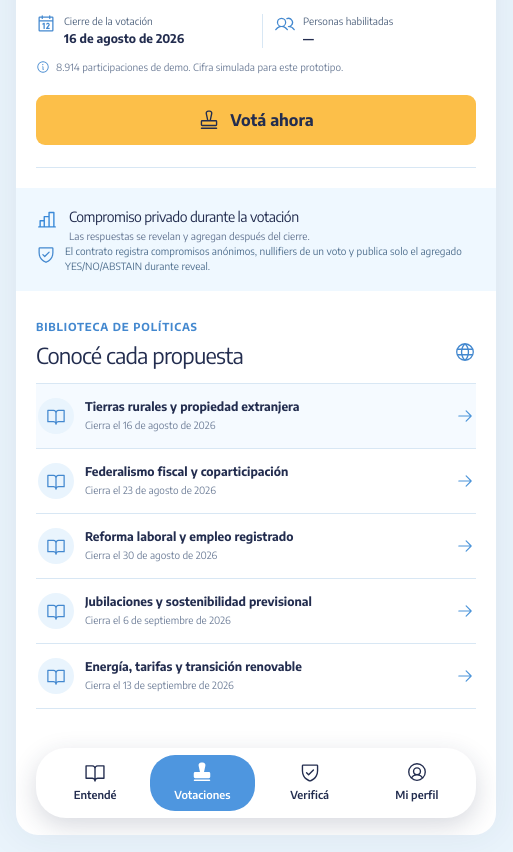
Test case: App › renders the Passport-backed profile space
(page scrolled)
Click the button "Mi perfil" at (417, 783), box [365,755,469,811]
(page scrolled)
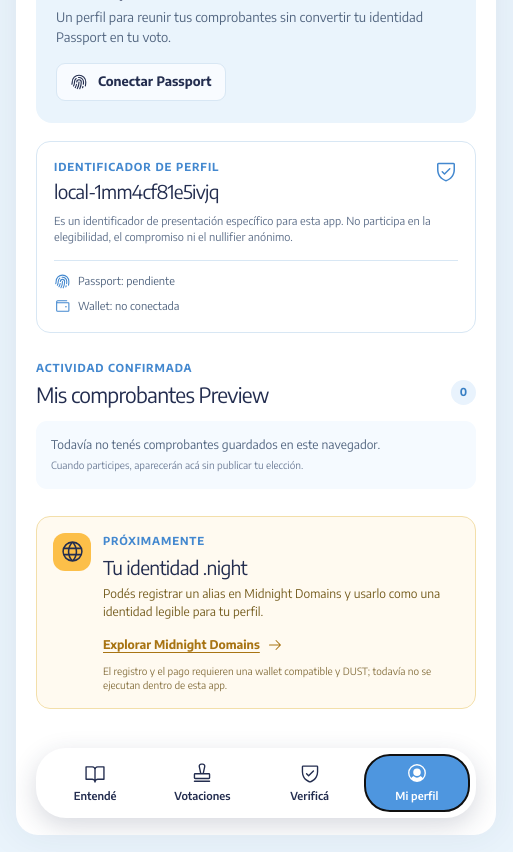
Result: the text "Identificador de perfil" is shown at [54,159,219,176]
Result: the heading "Tu identidad .night" is shown at [103,555,247,579]
